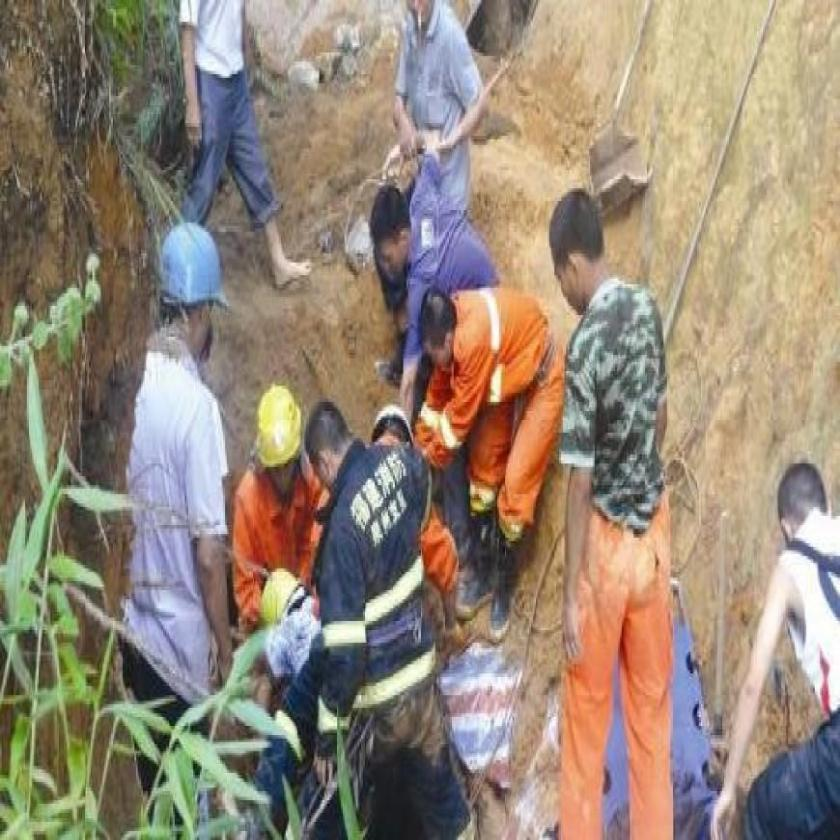Con_casco: (151, 215, 234, 384), (254, 373, 302, 507)
Sin_casco: (545, 184, 617, 323), (366, 182, 418, 282), (777, 455, 825, 552), (418, 286, 464, 383), (305, 402, 353, 487)
